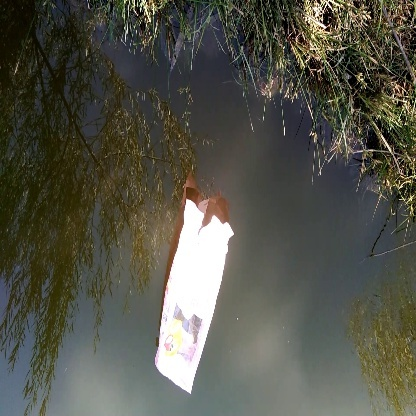plastic-bag: (153, 198, 235, 396)
